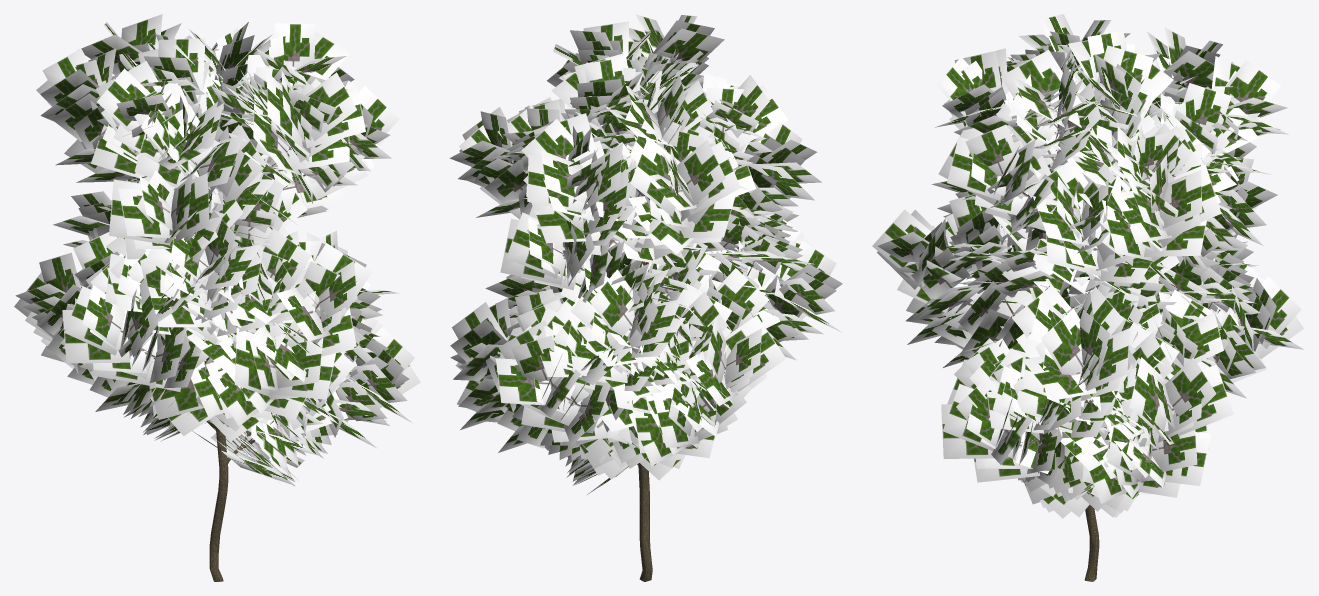
The model's file is real_tree_models.lod1.glb.
3 views of the same model, side by side, from view 1: azimuth 30°, elevation 25°; view 2: azimuth 150°, elevation 25°; view 3: azimuth 270°, elevation 25° (orthographic). The views are drawn at different scales.
Visible parts, largest first — view 1: Maple_1_Maple_Leaf_0, Maple_1_Maple_Bark_0; view 2: Maple_1_Maple_Leaf_0, Maple_1_Maple_Bark_0; view 3: Maple_1_Maple_Leaf_0, Maple_1_Maple_Bark_0.
Boxes of the visible parts, x1=… form: Maple_1_Maple_Leaf_0: x1=14, y1=14, x2=420, y2=486; Maple_1_Maple_Bark_0: x1=142, y1=148, x2=305, y2=581; Maple_1_Maple_Leaf_0: x1=449, y1=14, x2=842, y2=494; Maple_1_Maple_Bark_0: x1=566, y1=250, x2=754, y2=581; Maple_1_Maple_Leaf_0: x1=872, y1=14, x2=1304, y2=518; Maple_1_Maple_Bark_0: x1=966, y1=124, x2=1212, y2=581.
Size of the model in its own units: 11.8 by 17.87 by 12.86.
2 materials, 2 textured.
